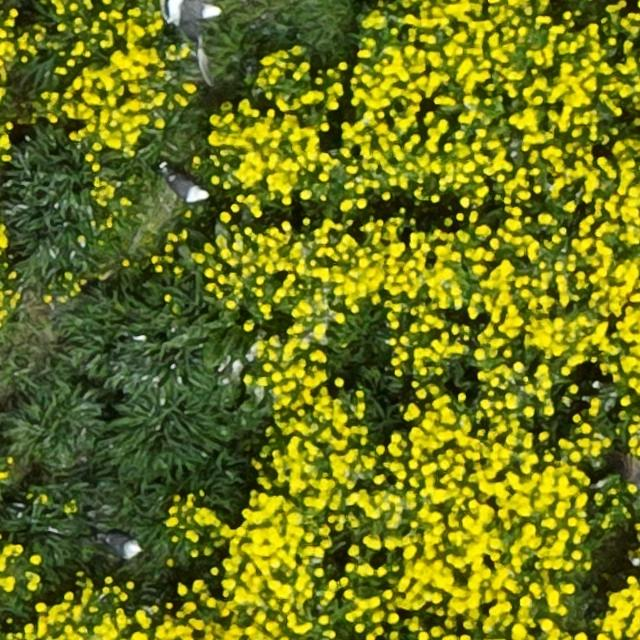F: (166, 0, 215, 36)
umineko: (166, 174, 206, 202), (100, 534, 140, 558)
